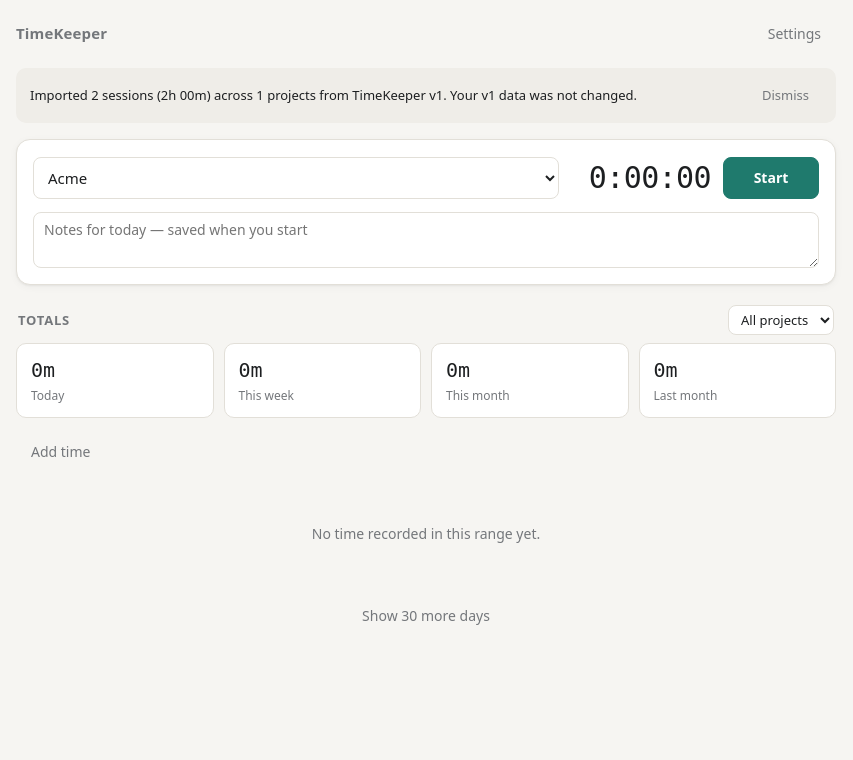
Scenario: App › shows an error on the Settings page when saving a setting fails
Click the button "Settings" at (794, 34), box [753,16,836,52]
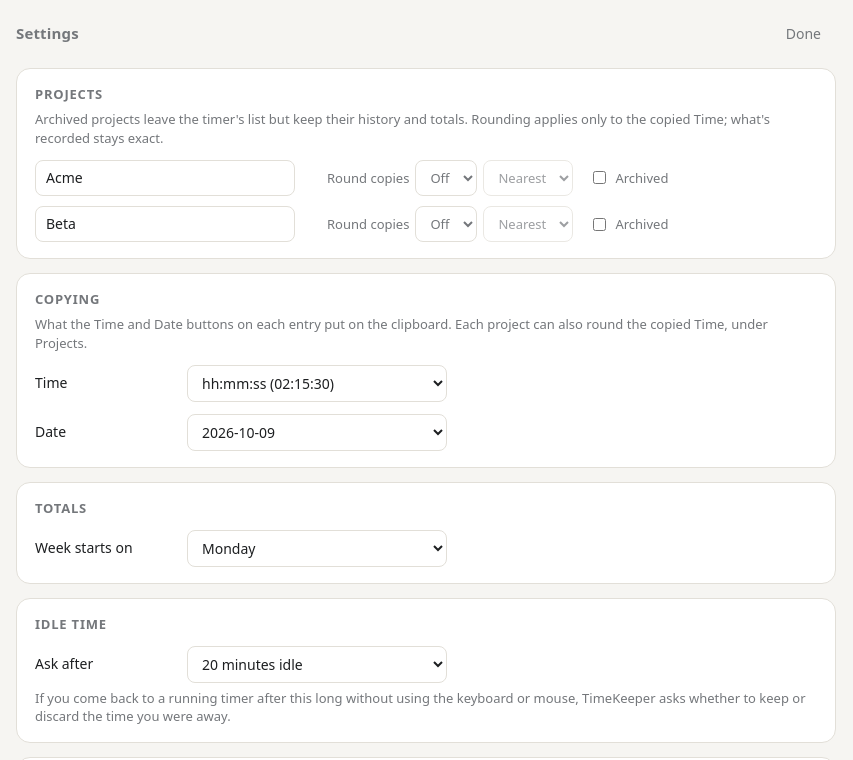
Select "Decimal hours (2.26)" in the dropdown labelled "Time" at (317, 384), box [187,365,447,402]
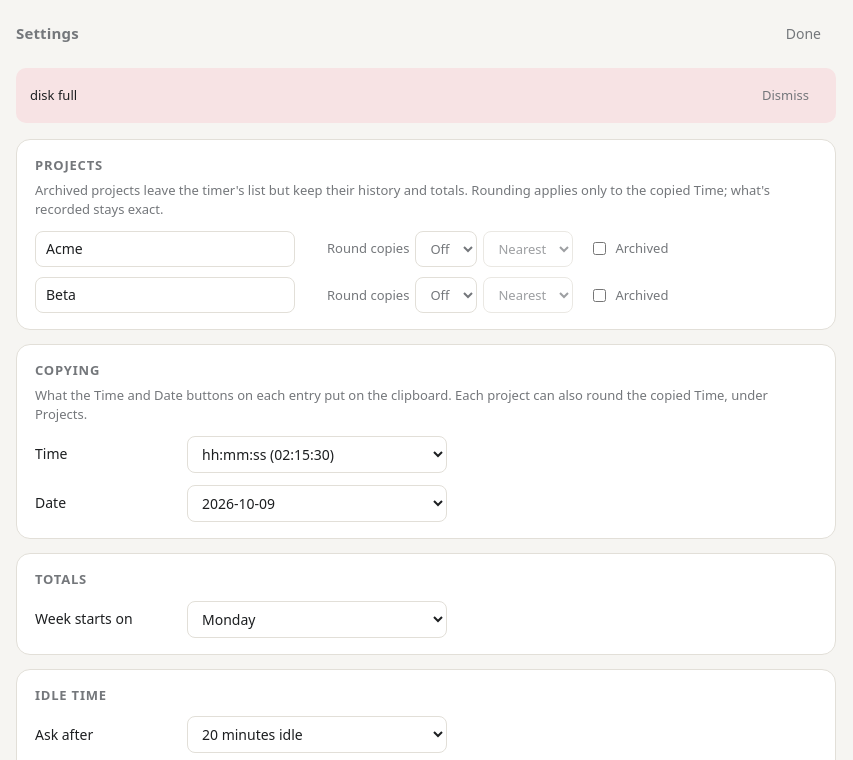
Now the text "disk full" is shown, box [30,86,77,105]
